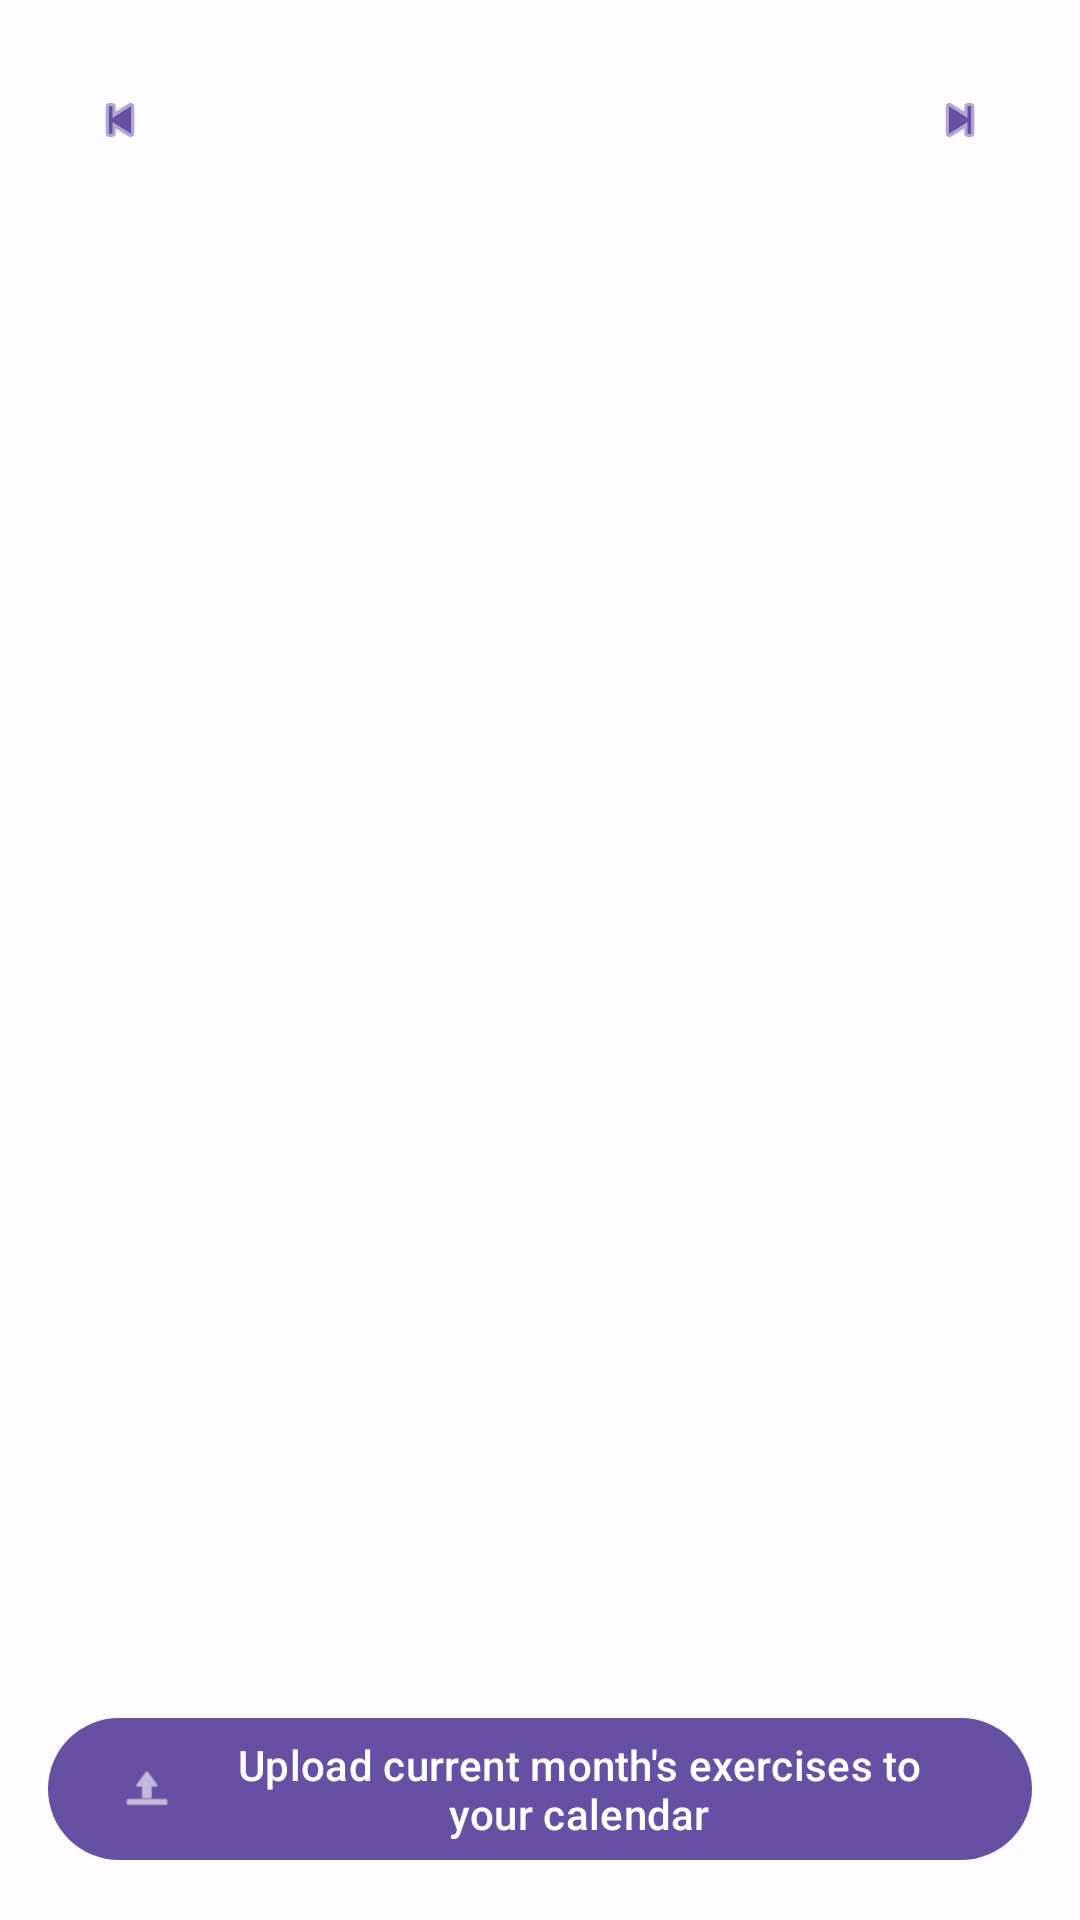

Where icons sit on this 1080w x 1920h app screen, as (x1, y1, x2, y2):
Next month: (945, 103, 975, 137)
Previous month: (105, 103, 135, 137)
